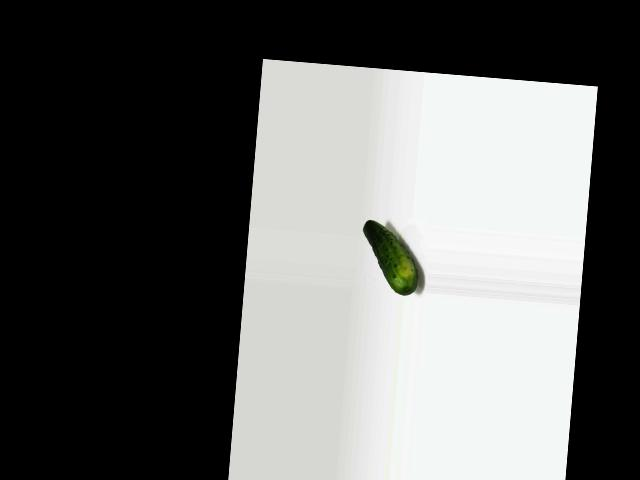cucumber: (358, 219, 422, 295)
